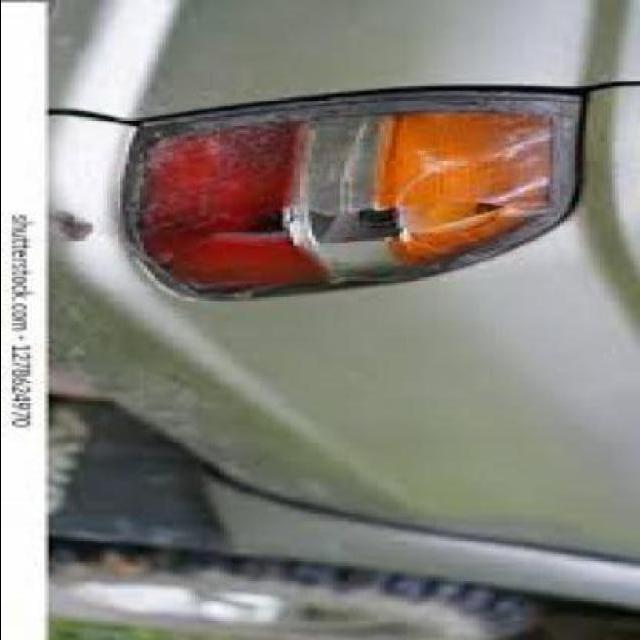Taillight-Damage: (110, 134, 571, 280)
